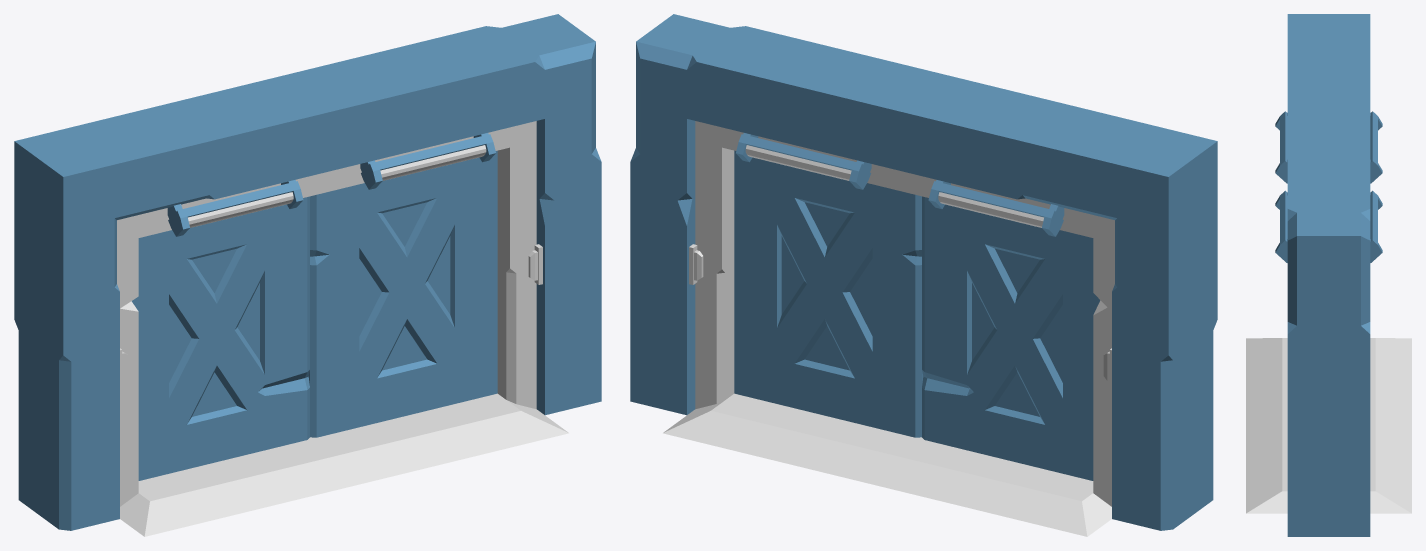
Rendered from Pisces Gate.fbx.
3 views of the same model, side by side, from view 1: azimuth 30°, elevation 25°; view 2: azimuth 150°, elevation 25°; view 3: azimuth 270°, elevation 25° (orthographic). The views are drawn at different scales.
Visible parts, largest first — view 1: Gate, Gate Door.R, Gate Door.L; view 2: Gate, Gate Door.R, Gate Door.L; view 3: Gate.
Boxes of the visible parts, x1,y1,x2,y2 form: Gate: (14, 14, 601, 536); Gate Door.R: (308, 150, 497, 437); Gate Door.L: (131, 196, 309, 480); Gate: (630, 14, 1217, 536); Gate Door.R: (734, 150, 923, 437); Gate Door.L: (922, 196, 1100, 480); Gate: (1246, 14, 1411, 536).
Size of the model in its own units: 1900 by 1200 by 600.
